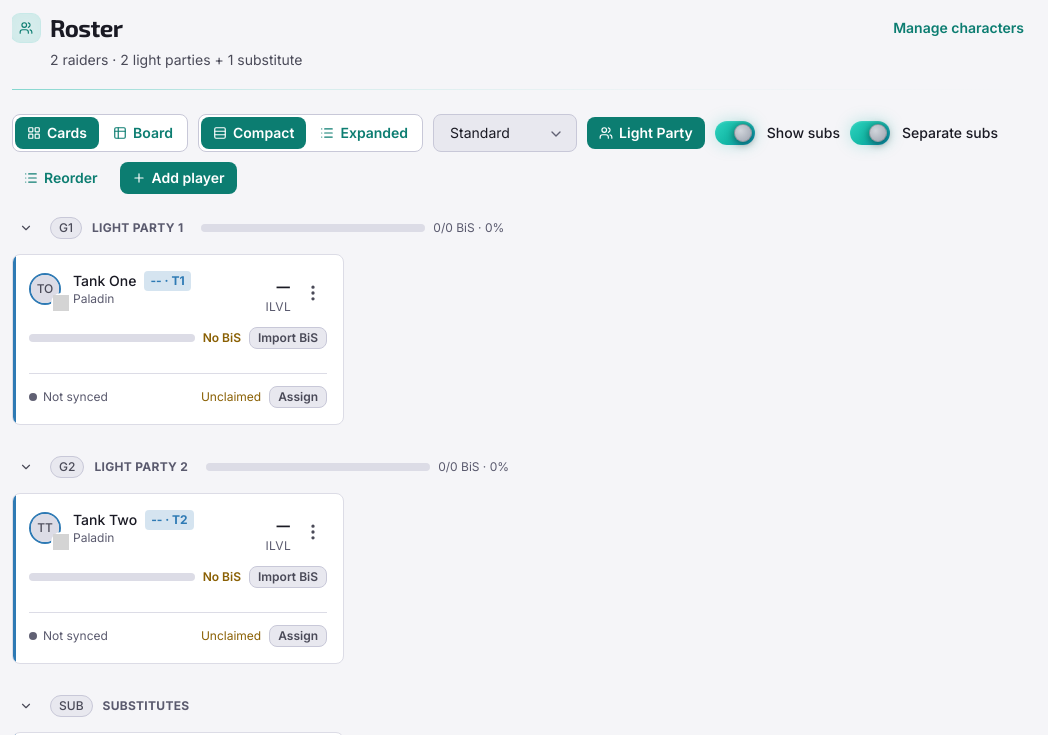
Test: Roster — C6 toolbar restorations › folds every section when Expanded is re-clicked, and restores them (D-08)
# Enter Expanded first (a re-click is what carries the fold-all meaning).
Click the button "Expanded" at (364, 133), box [308, 117, 420, 149]
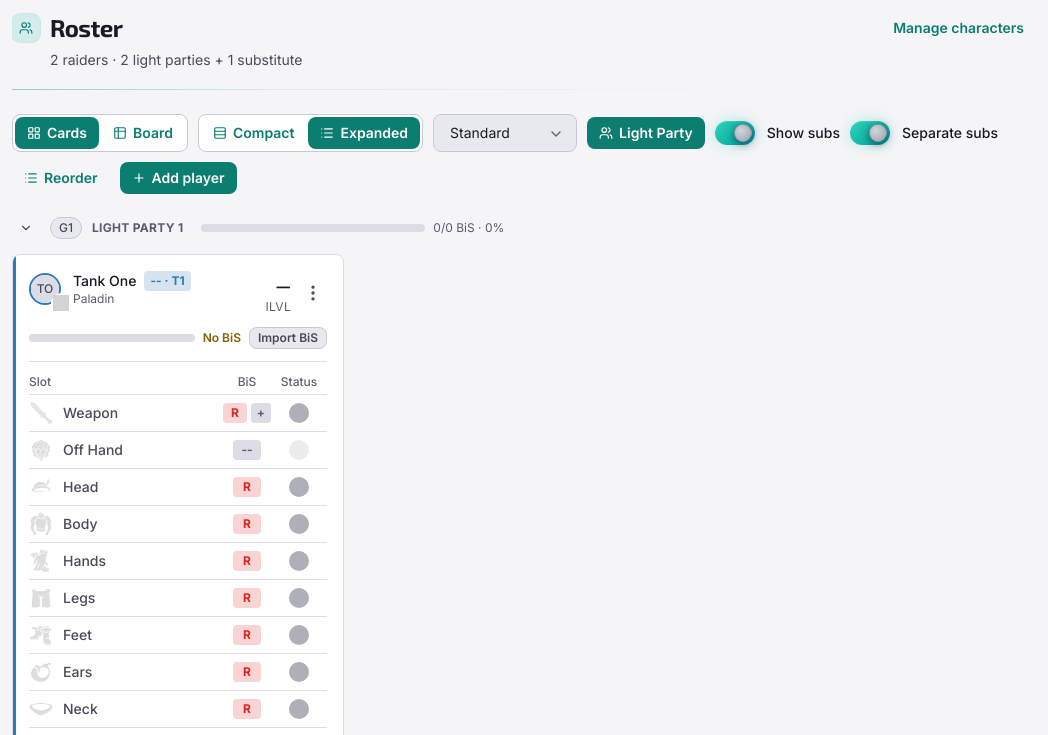
Expected: the text "Tank One" is shown, [73, 271, 136, 291]
Click the button "Expanded" at (364, 133), box [308, 117, 420, 149]
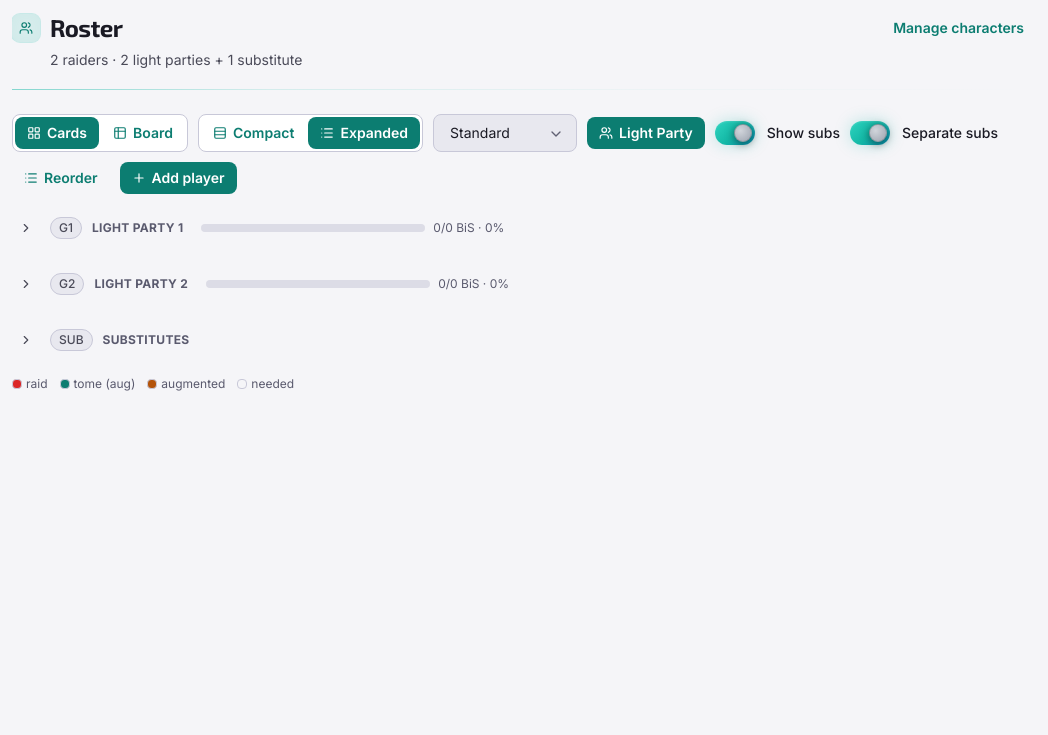
Expected: the text "Sub One" is not shown
Expected: the text "Tank One" is gone
Click the button "Expanded" at (364, 133), box [308, 117, 420, 149]
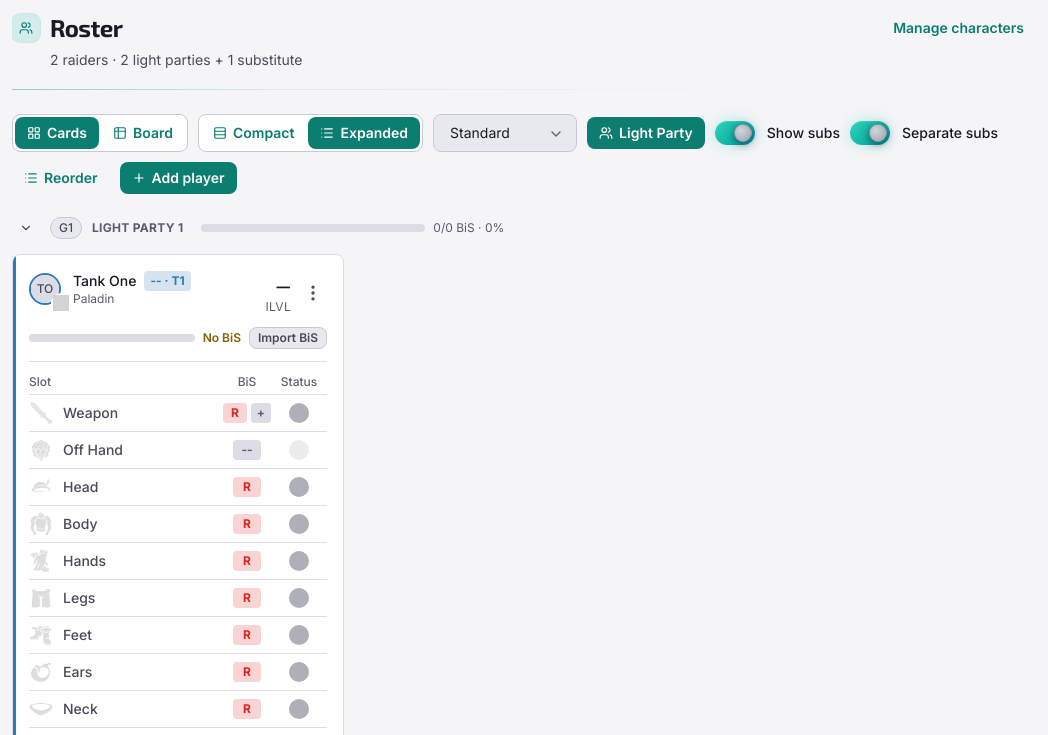
Expected: the text "Tank One" is shown, [73, 271, 136, 291]
